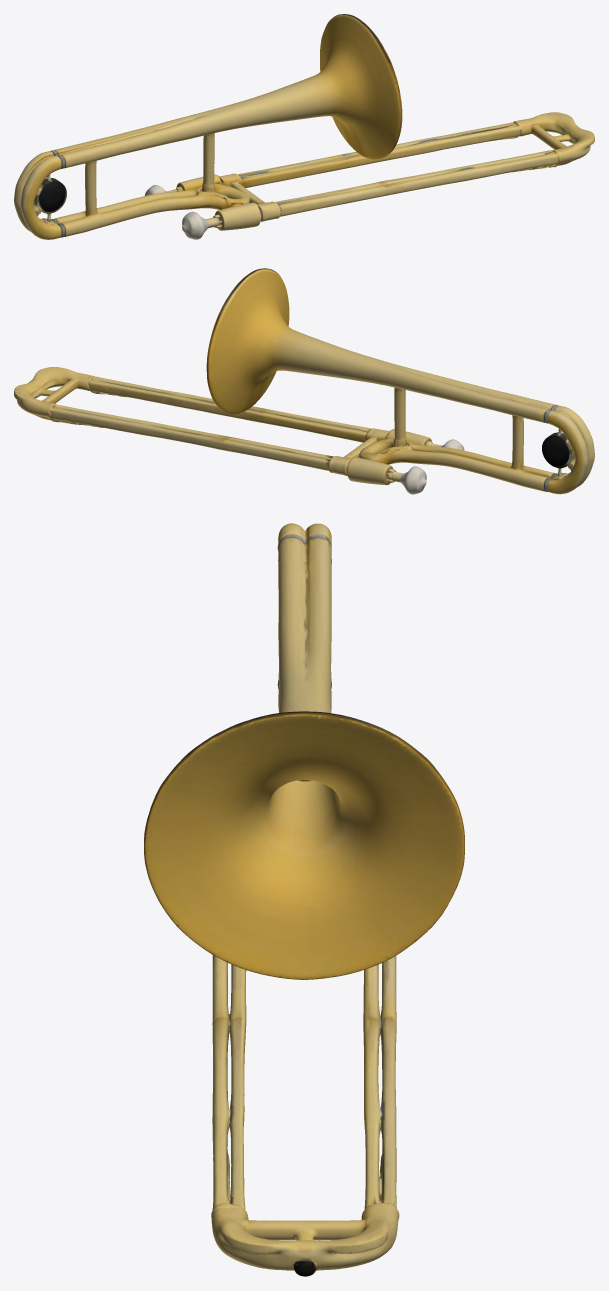
File: trombone.glb
The picture shows the model from 3 angles, top to bottom: view 1: azimuth 30°, elevation 25°; view 2: azimuth 150°, elevation 25°; view 3: azimuth 270°, elevation 25°; orthographic projection. The views are drawn at different scales.
Visible parts, largest first — view 1: tripo_node_5ebe7d11-cc4a-43d0-8a0a-660bd203e9b2; view 2: tripo_node_5ebe7d11-cc4a-43d0-8a0a-660bd203e9b2; view 3: tripo_node_5ebe7d11-cc4a-43d0-8a0a-660bd203e9b2.
Part boxes in pixels (x1=…): tripo_node_5ebe7d11-cc4a-43d0-8a0a-660bd203e9b2: x1=14, y1=14, x2=594, y2=239; tripo_node_5ebe7d11-cc4a-43d0-8a0a-660bd203e9b2: x1=14, y1=268, x2=594, y2=494; tripo_node_5ebe7d11-cc4a-43d0-8a0a-660bd203e9b2: x1=144, y1=523, x2=464, y2=1276.
Bounding box in the file's own units: 0.9797 × 0.2881 × 0.2399.
1 material, 1 textured.
